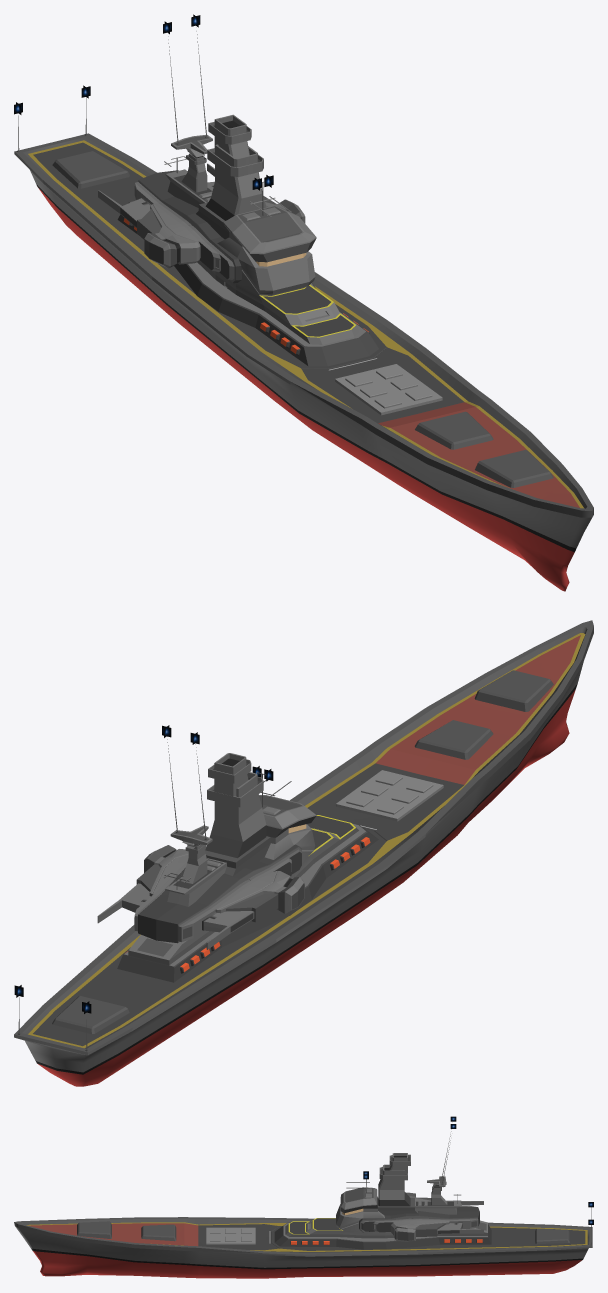
File: model_polyfleet_battleship06.fbx
The picture shows the model from 3 angles, top to bottom: view 1: azimuth 30°, elevation 25°; view 2: azimuth 150°, elevation 25°; view 3: azimuth 270°, elevation 25°; orthographic projection. The views are drawn at different scales.
Parts seen in each view (by area): view 1: model_batteship06, emissivelight; view 2: model_batteship06, emissivelight; view 3: model_batteship06, emissivelight.
Boxes of the visible parts, x1,y1,x2,y2 form: model_batteship06: (14, 31, 593, 591); emissivelight: (14, 14, 306, 266); model_batteship06: (14, 620, 593, 1086); emissivelight: (14, 725, 306, 1013); model_batteship06: (14, 1129, 592, 1278); emissivelight: (342, 1116, 593, 1224).
Size of the model in its own units: 1550 by 2897 by 9780.
